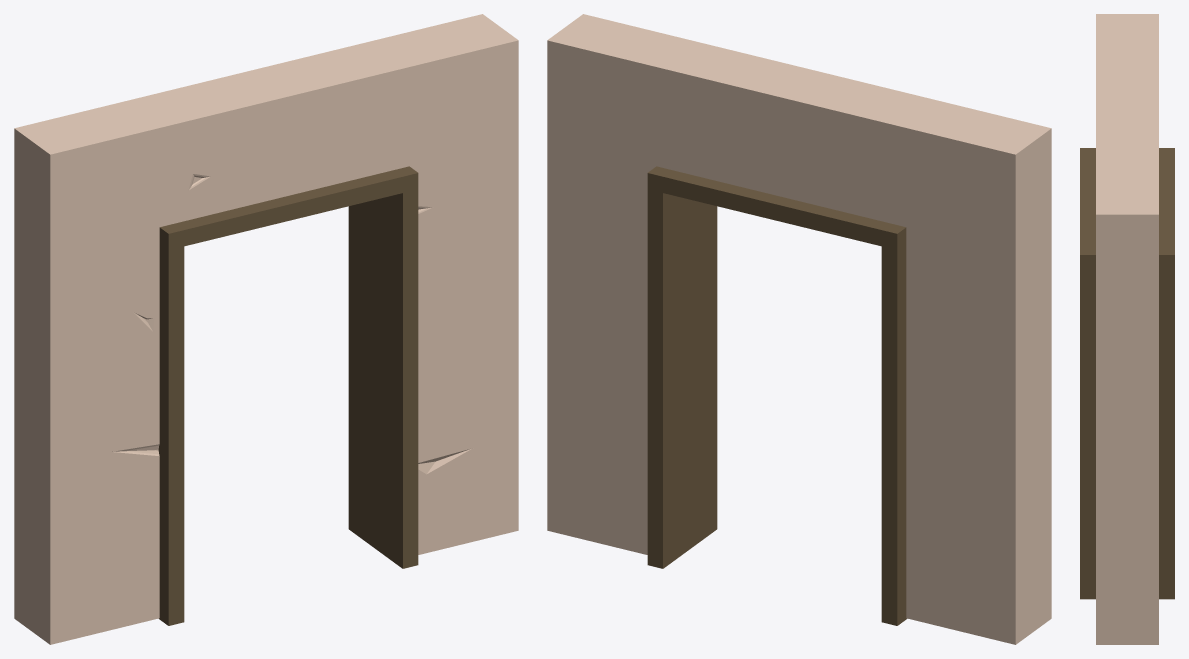
File: greek_wall_2_door.fbx
3 views of the same model, side by side, from view 1: azimuth 30°, elevation 25°; view 2: azimuth 150°, elevation 25°; view 3: azimuth 270°, elevation 25° (orthographic). The views are drawn at different scales.
Visible parts, largest first — view 1: Cube.023; view 2: Cube.023; view 3: Cube.023.
Boxes of the visible parts, x1,y1,x2,y2 form: Cube.023: (14, 14, 518, 644); Cube.023: (547, 14, 1051, 644); Cube.023: (1080, 14, 1174, 644).
Size of the model in its own units: 300 by 301 by 60.
